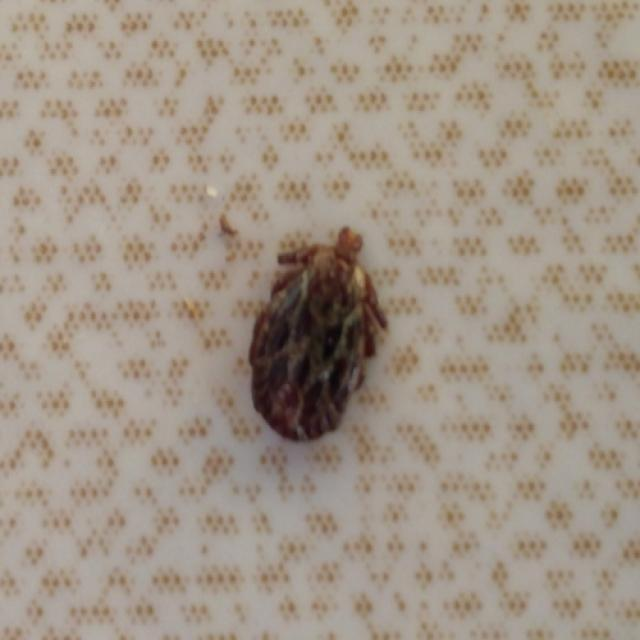Dermacentor Reticulatus-M: (248, 227, 387, 440)
